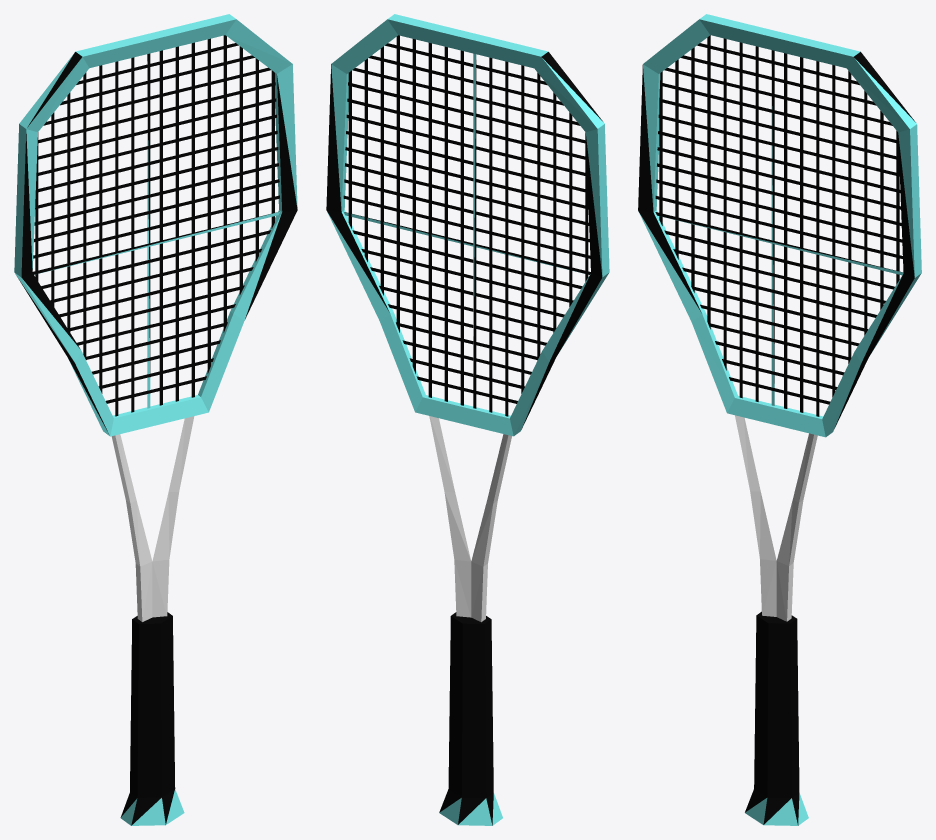
Rendered from Squash_Racket_4.fbx.
The picture shows the model from 3 angles, left to right: view 1: azimuth 30°, elevation 25°; view 2: azimuth 150°, elevation 25°; view 3: azimuth 330°, elevation 25°; orthographic projection.
Visible parts, largest first — view 1: Squash_Racket_4; view 2: Squash_Racket_4; view 3: Squash_Racket_4.
Boxes of the visible parts, bbox=[...] form: Squash_Racket_4: bbox=[14, 14, 297, 825]; Squash_Racket_4: bbox=[326, 14, 609, 825]; Squash_Racket_4: bbox=[638, 14, 921, 825].
Size of the model in its own units: 23.21 by 62.6 by 3.86.
